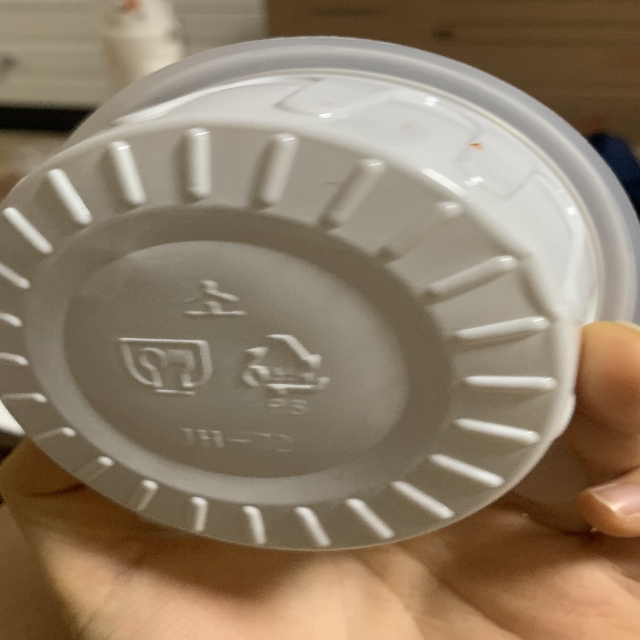ps: (236, 330, 332, 417)
